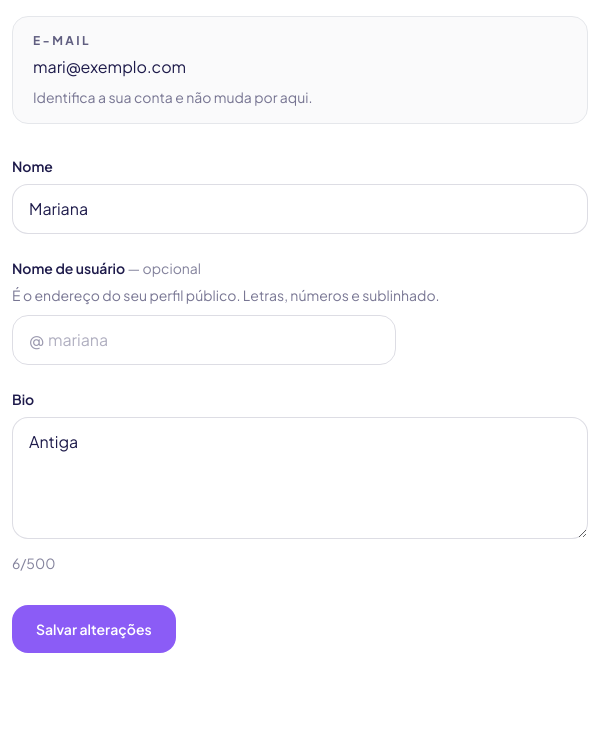
Test: formulário de perfil › mostra o erro quando a API recusa
This screenshot has width=605, height=730.
Click the button "Salvar alterações" at [94, 629], box [12,605,176,653]
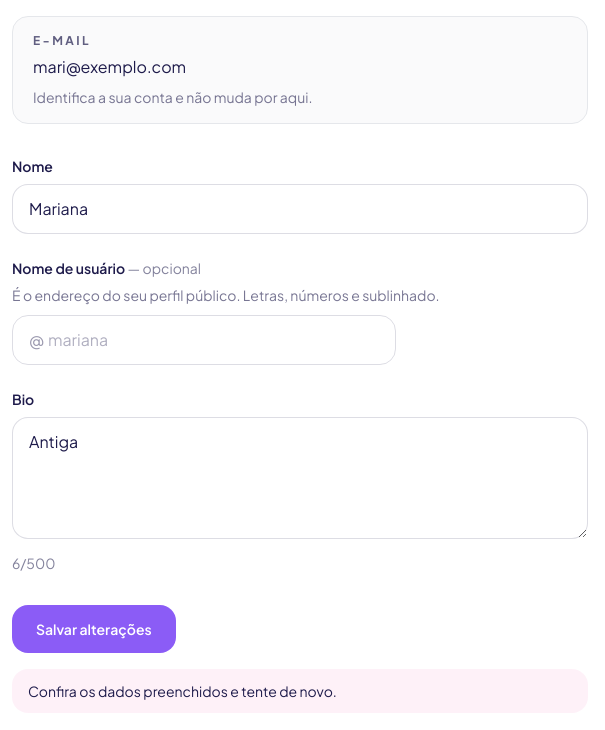
Expected: the message "Confira os dados preenchidos e tente de novo." is shown, [12,669,588,713]
